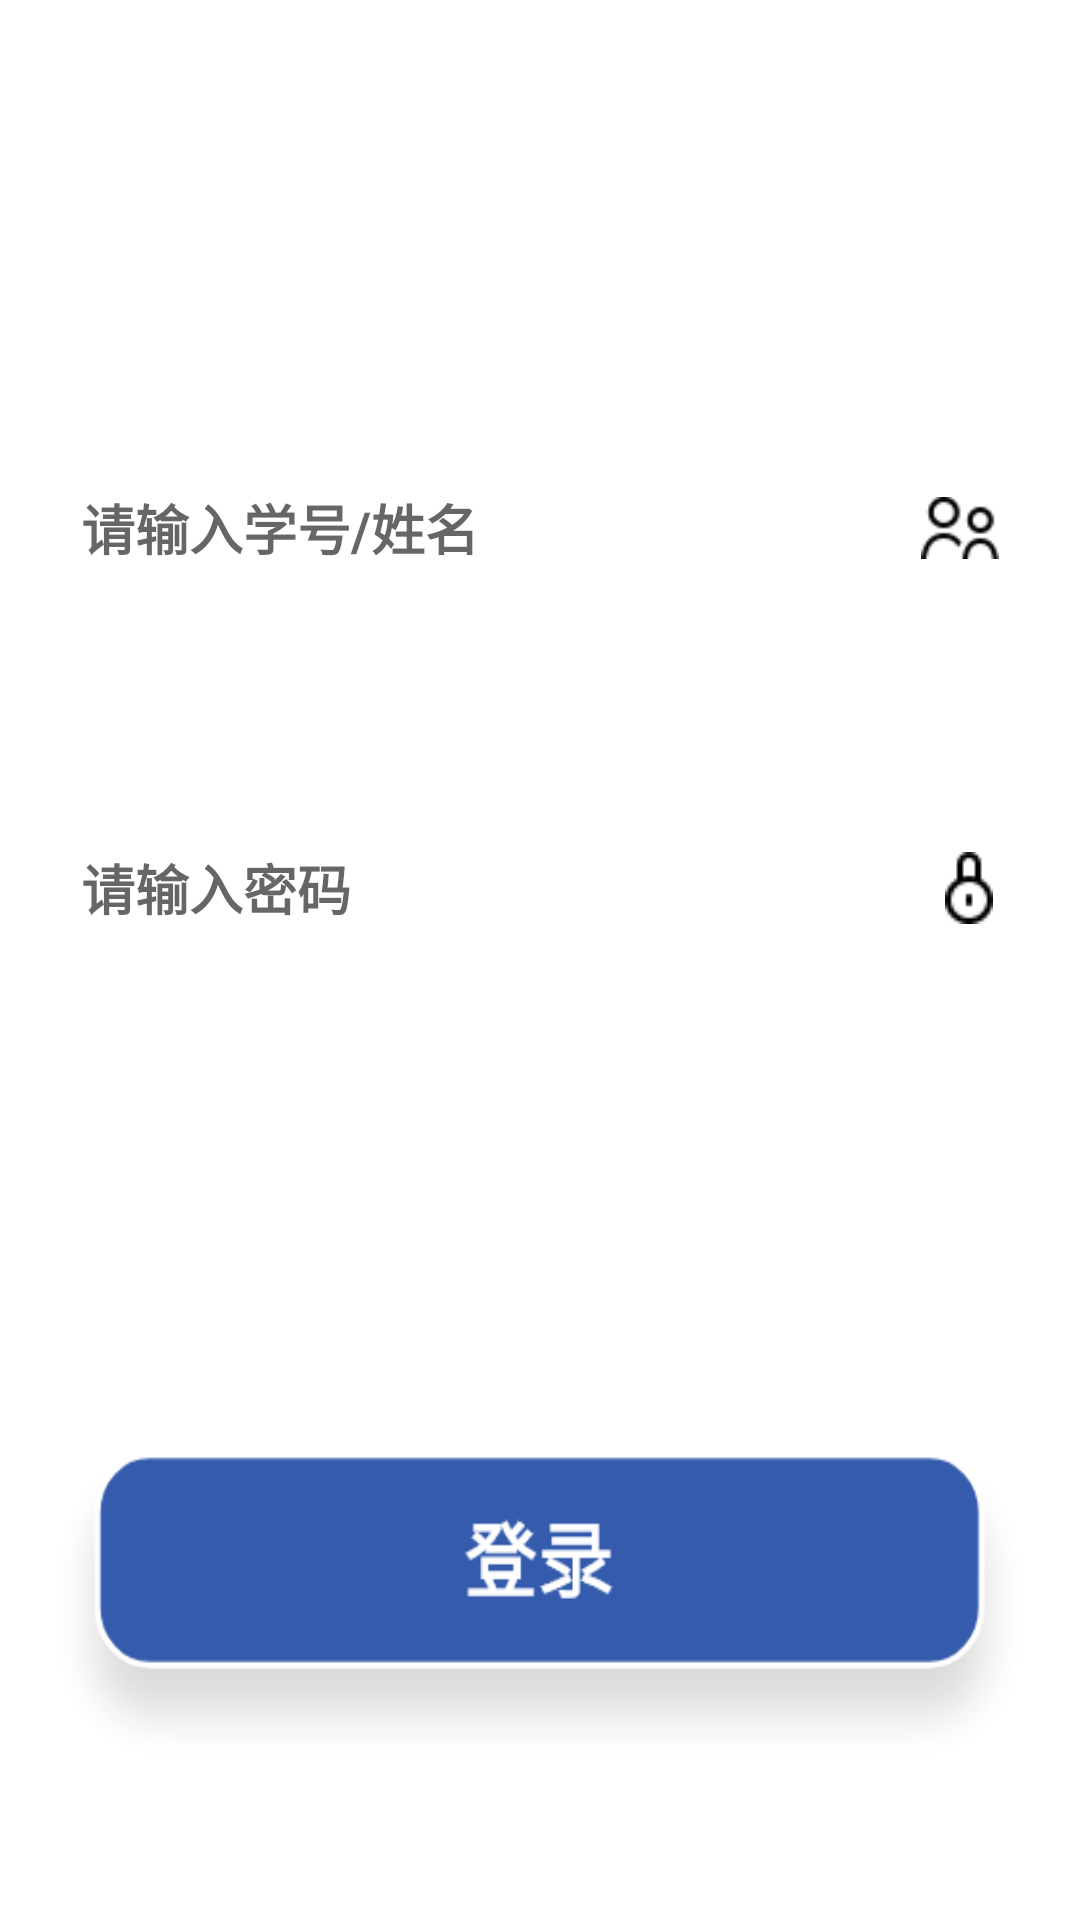

Named icons in this screenshot (1080px×1920px) and their bounding boxes, rect(x1, y1, x2, y2):
lock closed: rect(945, 852, 993, 924)
